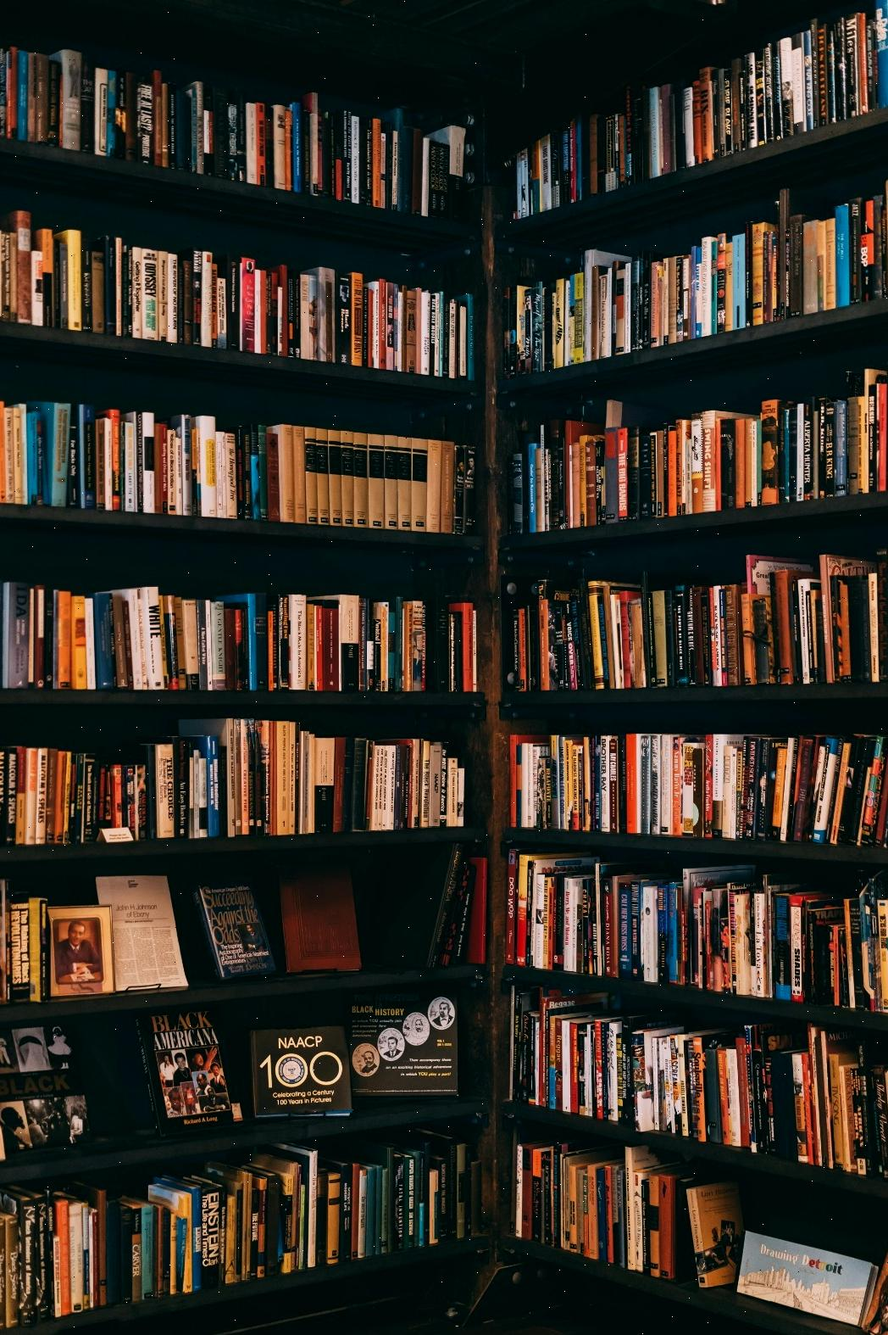book: (583, 248, 631, 362), (300, 266, 336, 367), (810, 736, 841, 845), (51, 50, 84, 150), (562, 872, 594, 974), (4, 210, 31, 328), (421, 125, 454, 219), (1, 587, 30, 688), (54, 229, 81, 334), (717, 736, 744, 839), (845, 372, 866, 495), (760, 400, 785, 503), (197, 420, 224, 511), (729, 888, 751, 996), (448, 602, 474, 693), (170, 415, 192, 519), (25, 403, 47, 506), (313, 736, 336, 830), (26, 52, 48, 144), (52, 404, 71, 509), (34, 229, 53, 333), (67, 1201, 84, 1316), (54, 1197, 70, 1316), (76, 405, 94, 510), (184, 83, 204, 175), (752, 886, 768, 998), (690, 74, 709, 168), (387, 110, 404, 215), (301, 94, 318, 198), (873, 375, 888, 491), (140, 248, 158, 344), (872, 0, 888, 107), (278, 426, 296, 521), (834, 205, 850, 310), (239, 258, 256, 355), (866, 572, 881, 681), (874, 897, 888, 1013), (265, 423, 281, 524), (425, 438, 442, 531), (140, 412, 155, 515), (137, 77, 153, 165), (93, 68, 109, 155), (271, 105, 287, 189), (0, 228, 13, 324), (288, 104, 301, 194), (514, 1143, 525, 1241), (16, 51, 28, 139), (6, 46, 17, 137), (294, 597, 304, 687)
